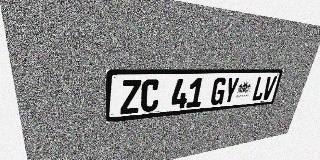1: (186, 78, 205, 108)
4: (170, 78, 190, 109)
C: (140, 79, 160, 113)
G: (209, 77, 228, 105)
L: (251, 76, 268, 101)
V: (261, 76, 277, 100)
Y: (222, 77, 240, 104)
Z: (120, 80, 141, 115)
